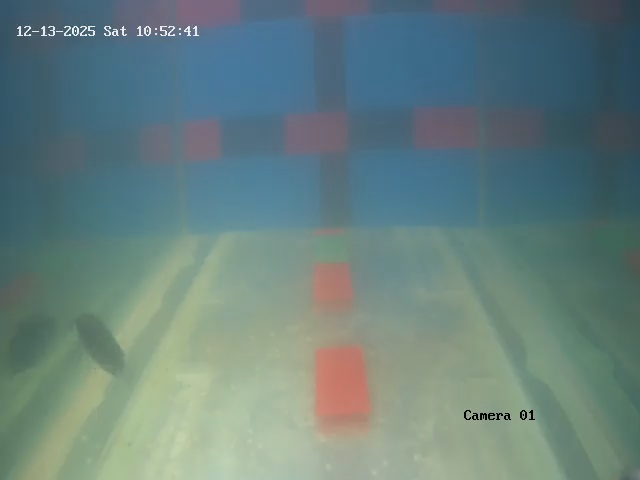fish: (61, 309, 139, 376)
